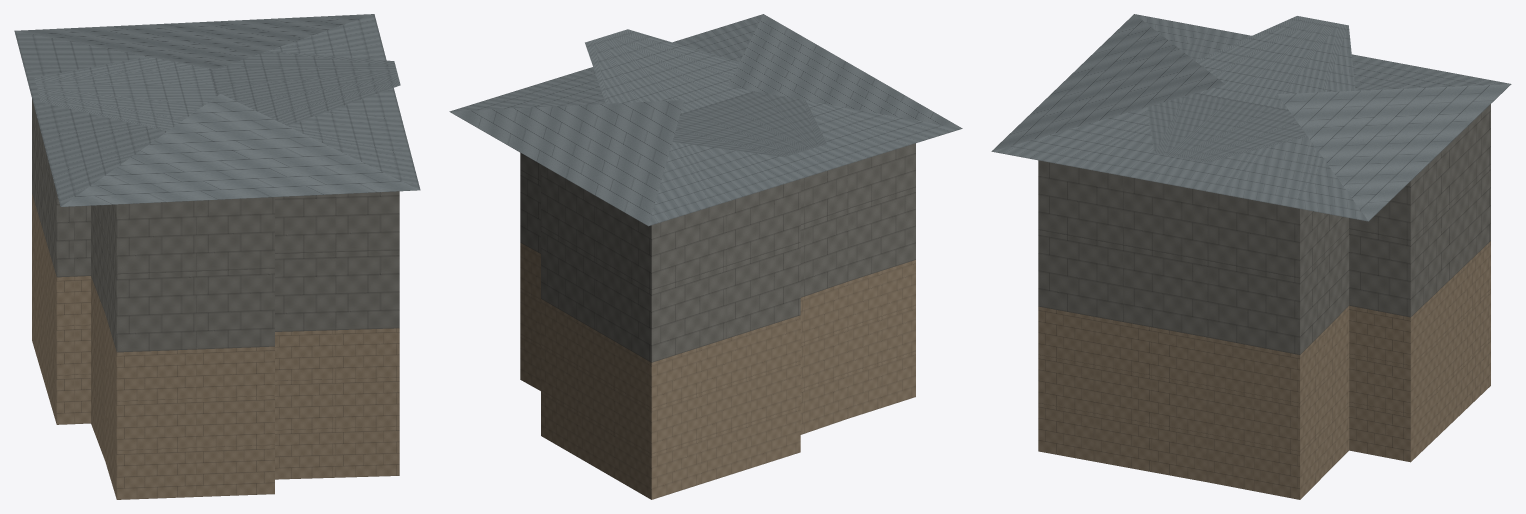
Rendered from bld_c31_-38_461.gltf.
3 views of the same model, side by side, from view 1: azimuth 30°, elevation 25°; view 2: azimuth 150°, elevation 25°; view 3: azimuth 270°, elevation 25° (orthographic). The views are drawn at different scales.
Visible parts, largest first — view 1: bld_c31_-38_461; view 2: bld_c31_-38_461; view 3: bld_c31_-38_461.
Boxes of the visible parts, x1,y1,x2,y2 form: bld_c31_-38_461: (14,14,420,499); bld_c31_-38_461: (449,14,962,499); bld_c31_-38_461: (991,14,1511,499).
Size of the model in its own units: 15.68 by 11.5 by 16.6.
3 materials, 3 textured.
